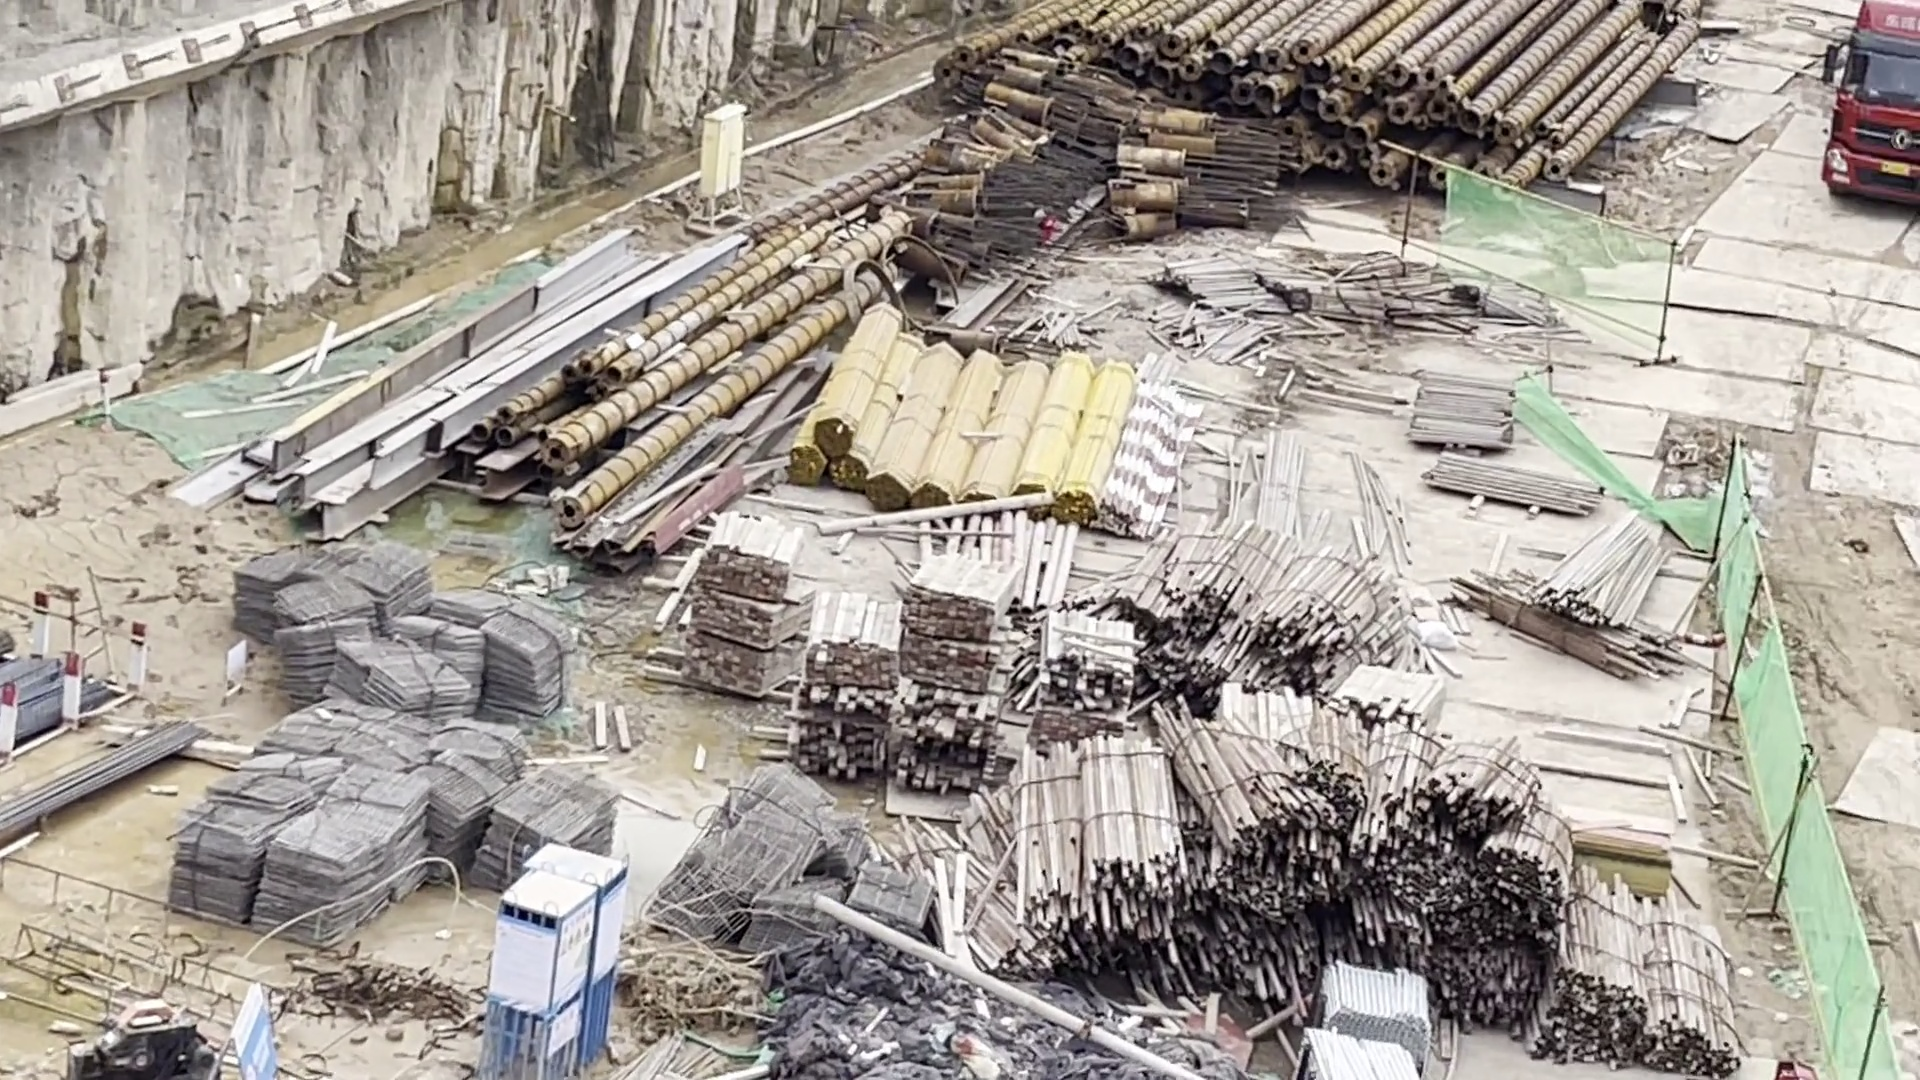scaffold: (1317, 960, 1428, 1080)
wood: (680, 510, 1141, 791)
